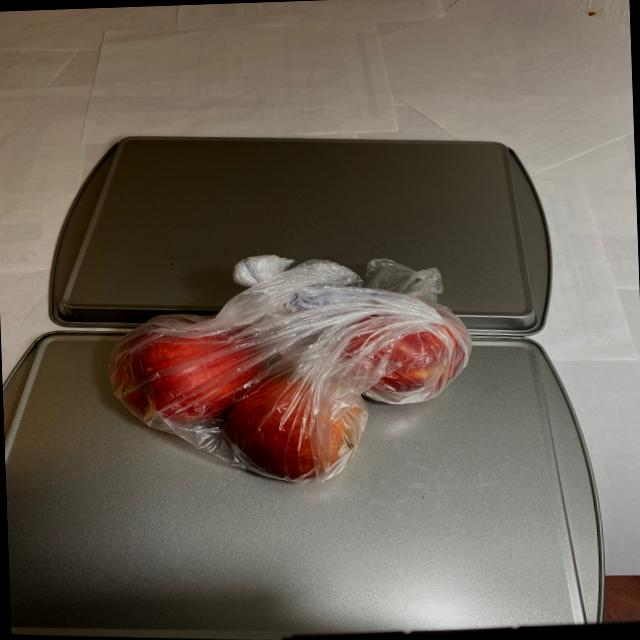apple: (103, 290, 474, 486)
